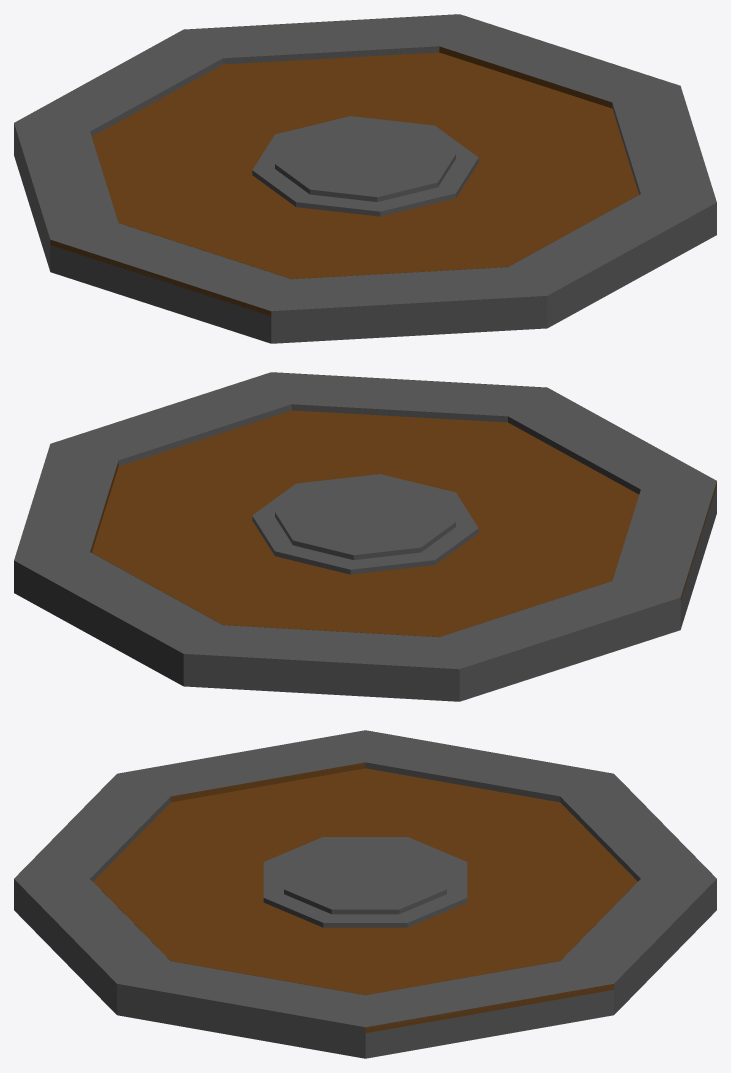
File: Shield.fbx
The picture shows the model from 3 angles, top to bottom: view 1: azimuth 30°, elevation 25°; view 2: azimuth 150°, elevation 25°; view 3: azimuth 270°, elevation 25°; orthographic projection. The views are drawn at different scales.
Visible parts, largest first — view 1: Circle; view 2: Circle; view 3: Circle.
Part boxes in pixels (left/top/right/bottom): Circle: left=14, top=14, right=716, bottom=343; Circle: left=14, top=372, right=716, bottom=701; Circle: left=14, top=730, right=716, bottom=1058.
Bounding box in the file's own units: 300 × 16.53 × 300.
